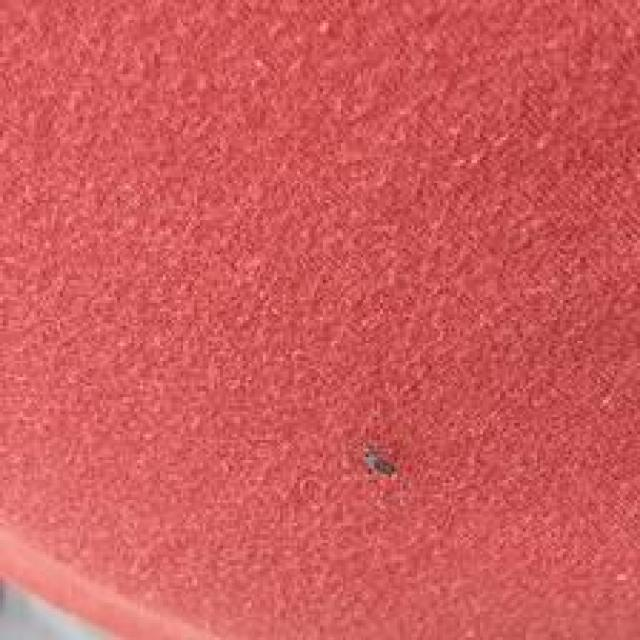Aedes albopictus: (362, 446, 398, 480)
